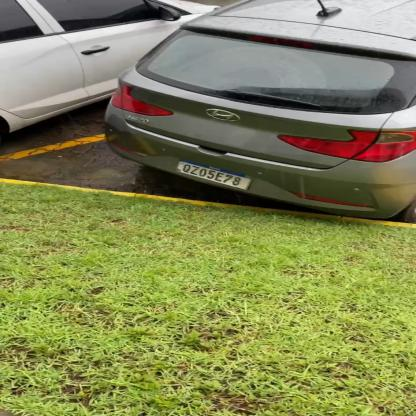Plate: (171, 156, 255, 193)
